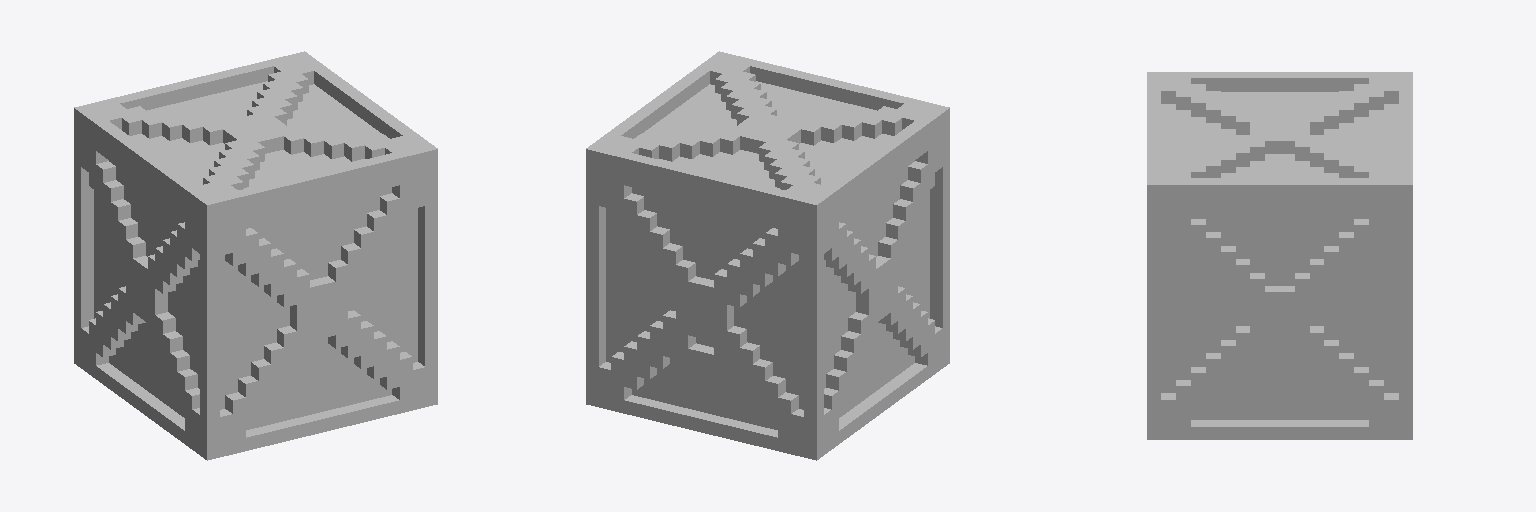
File: Crate.obj
The picture shows the model from 3 angles: view 1: azimuth 30°, elevation 25°; view 2: azimuth 150°, elevation 25°; view 3: azimuth 270°, elevation 25°; orthographic projection.
Visible parts, largest first — view 1: object 1; view 2: object 1; view 3: object 1.
Boxes of the visible parts, box(x1,y1,x2,y2) form: object 1: box(74, 51, 437, 460); object 1: box(586, 51, 949, 460); object 1: box(1147, 72, 1412, 439).
Size of the model in its own units: 1.8 by 1.9 by 1.8.